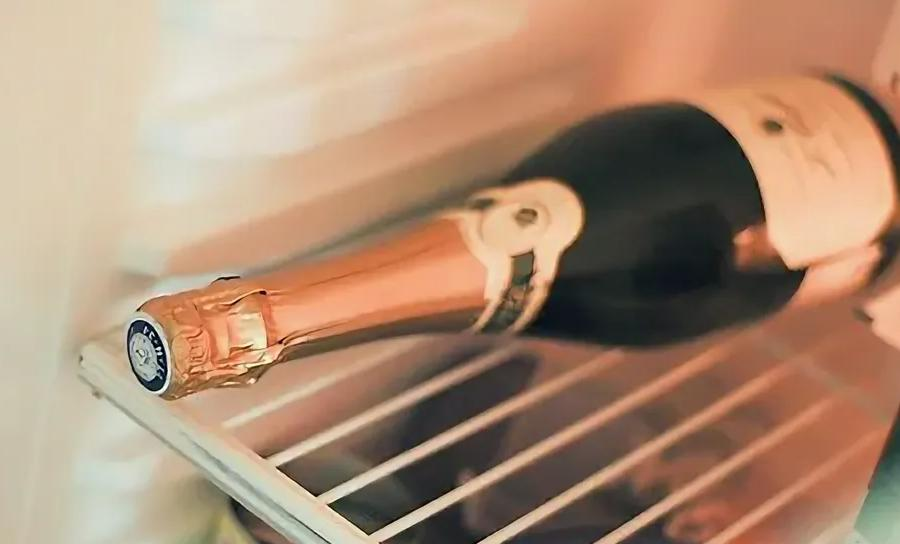wine bottle: (124, 63, 900, 401)
wine label: (678, 68, 894, 270)
